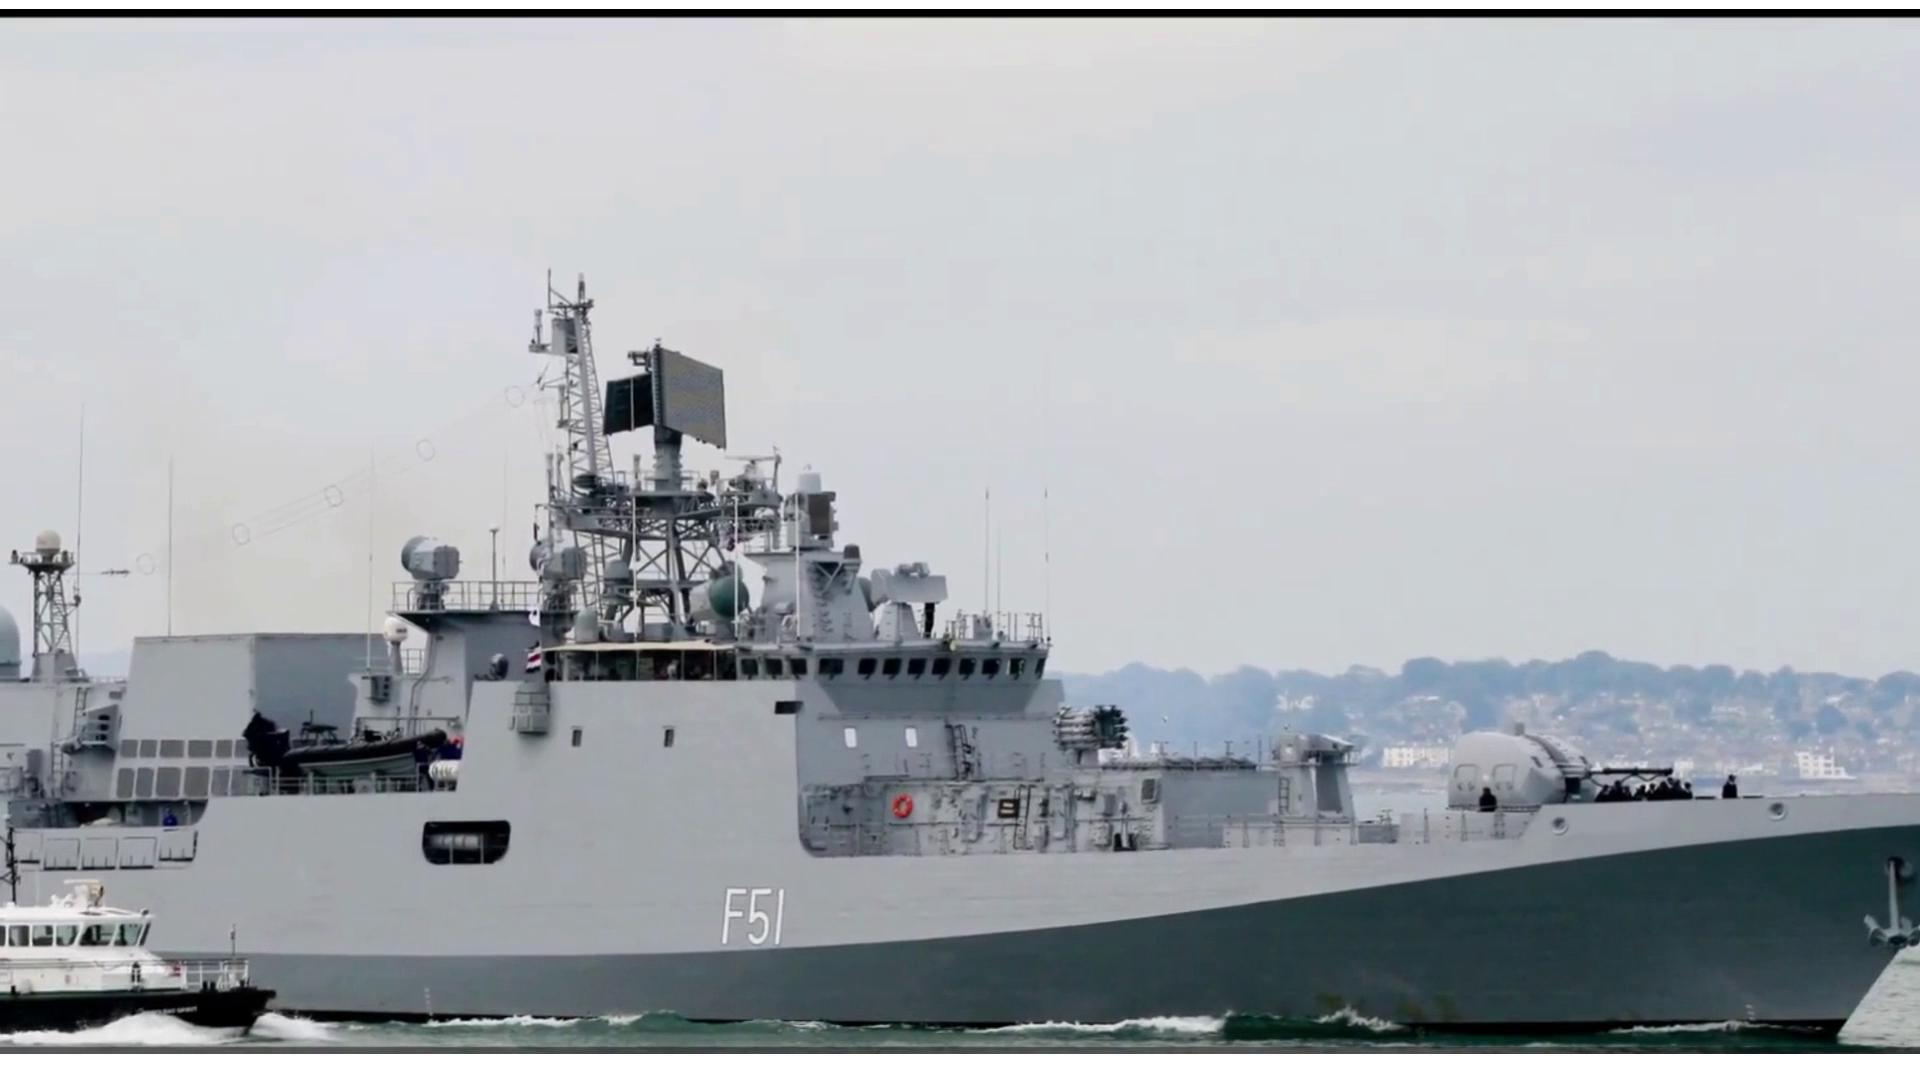OCR: (712, 873, 814, 963)
